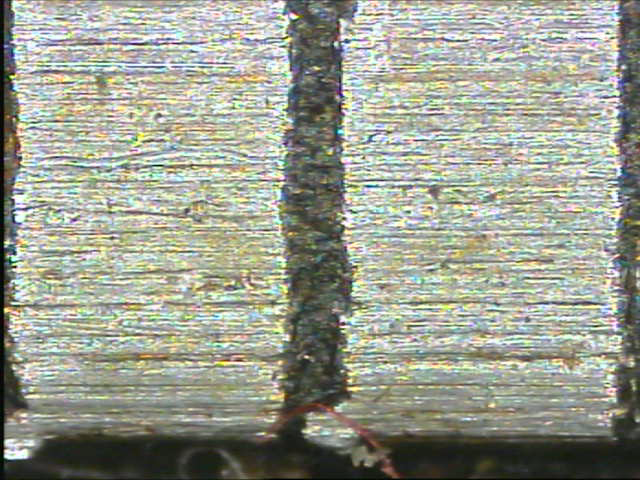line: (277, 1, 359, 422)
